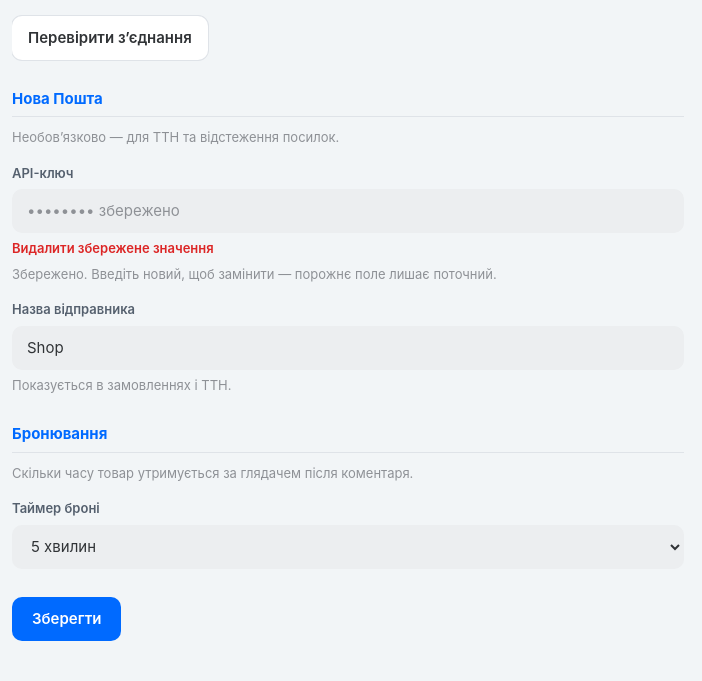
Test: LiveSettingsPage › surfaces a validation message from the backend
(page scrolled)
Expected: the field showing "Shop" is shown, [12, 326, 684, 370]
Click the button "Зберегти" at coordinates (67, 619), box [12, 597, 122, 641]
(page scrolled)
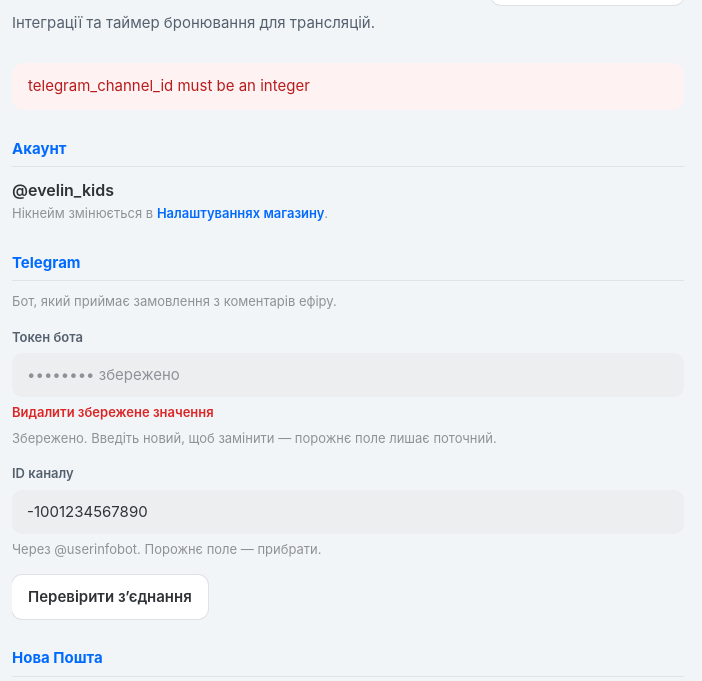
Now the message shows "must be an integer", box [28, 76, 310, 95]
